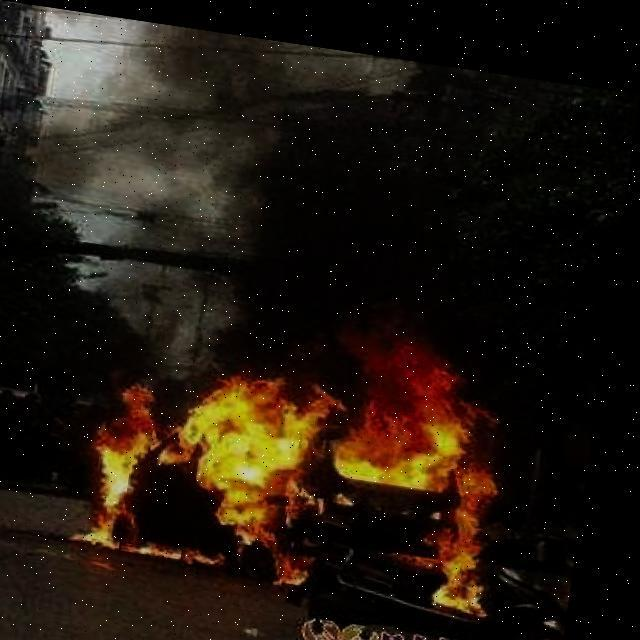Fire: (80, 290, 527, 614)
